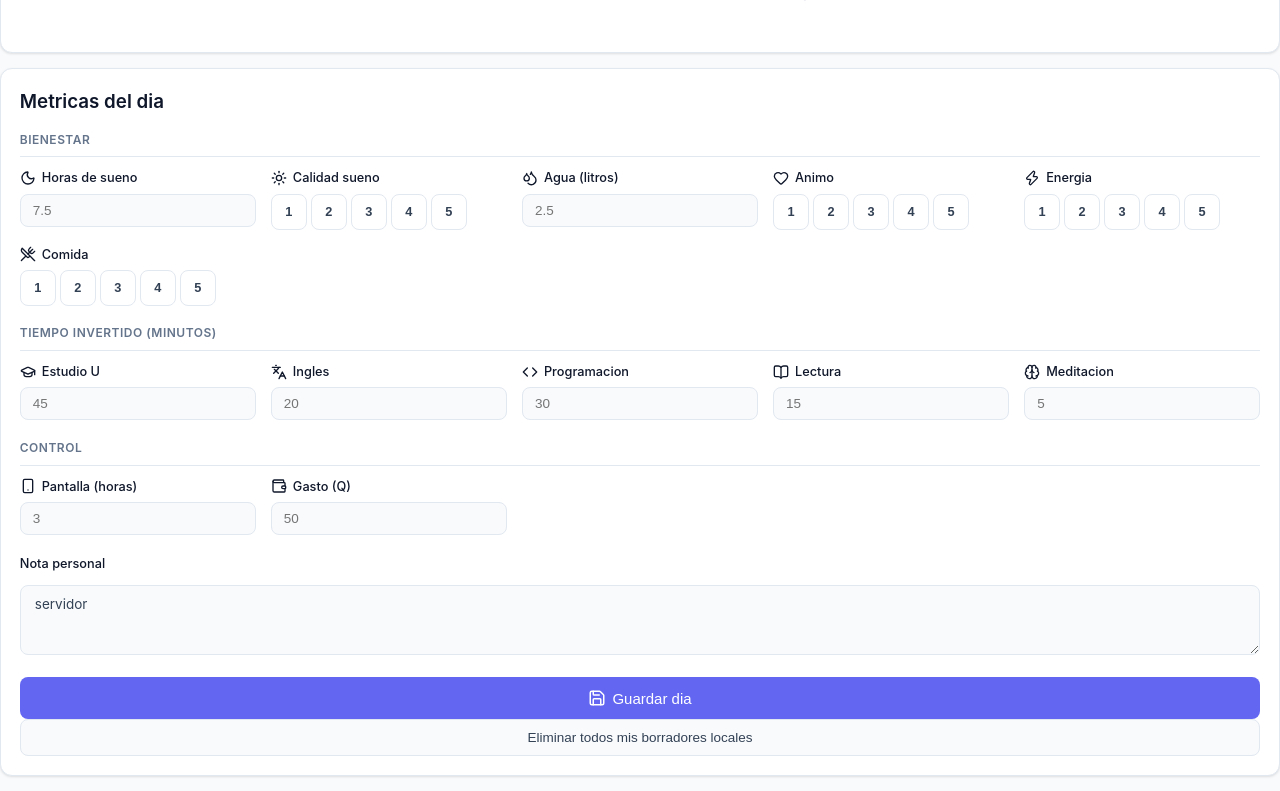
Scenario: Today draft save lifecycle › keeps delete-all separate and restores the current confirmed data
(page scrolled)
Replace the text in the text box with placeholder "Como fue tu dia?" with "local": (640, 620) x1=20 y1=585 x2=1260 y2=655
(page scrolled)
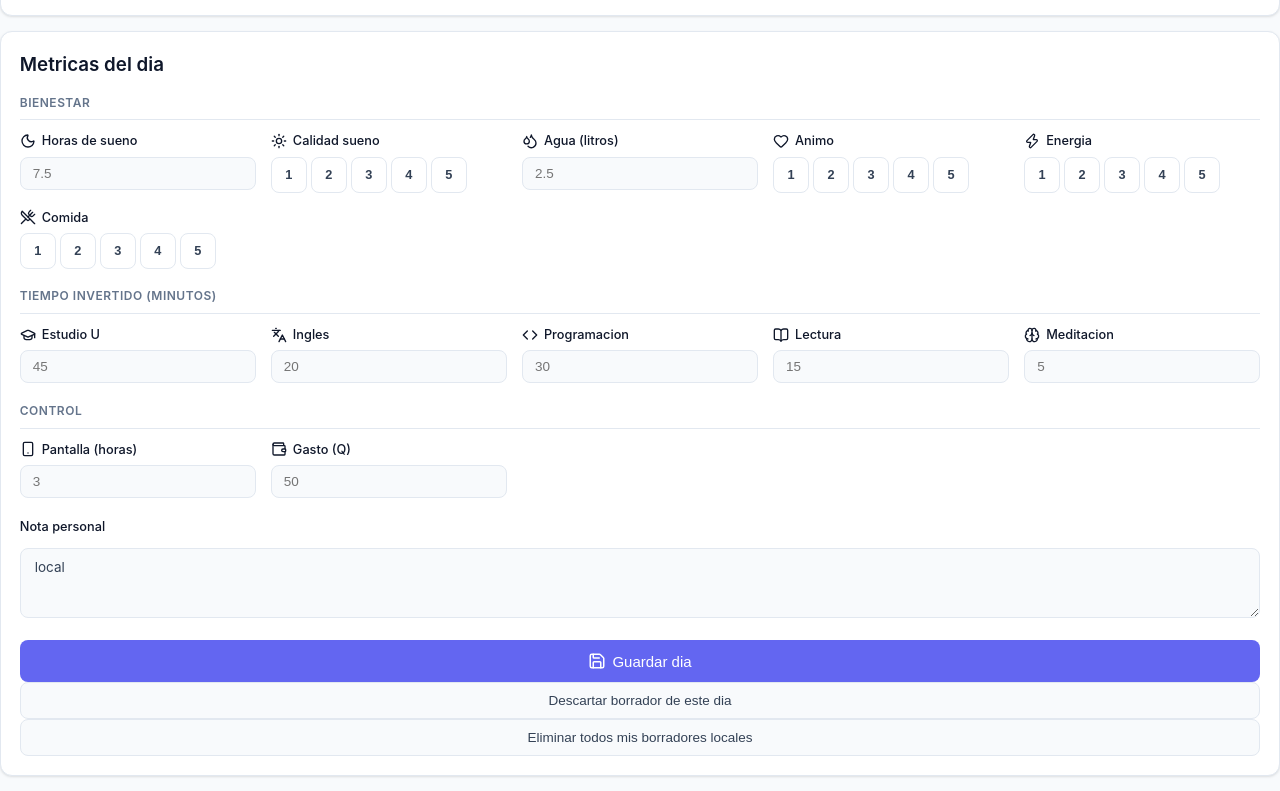
Click the button "Eliminar todos mis borradores locales": (640, 738) x1=20 y1=719 x2=1260 y2=756
(page scrolled)
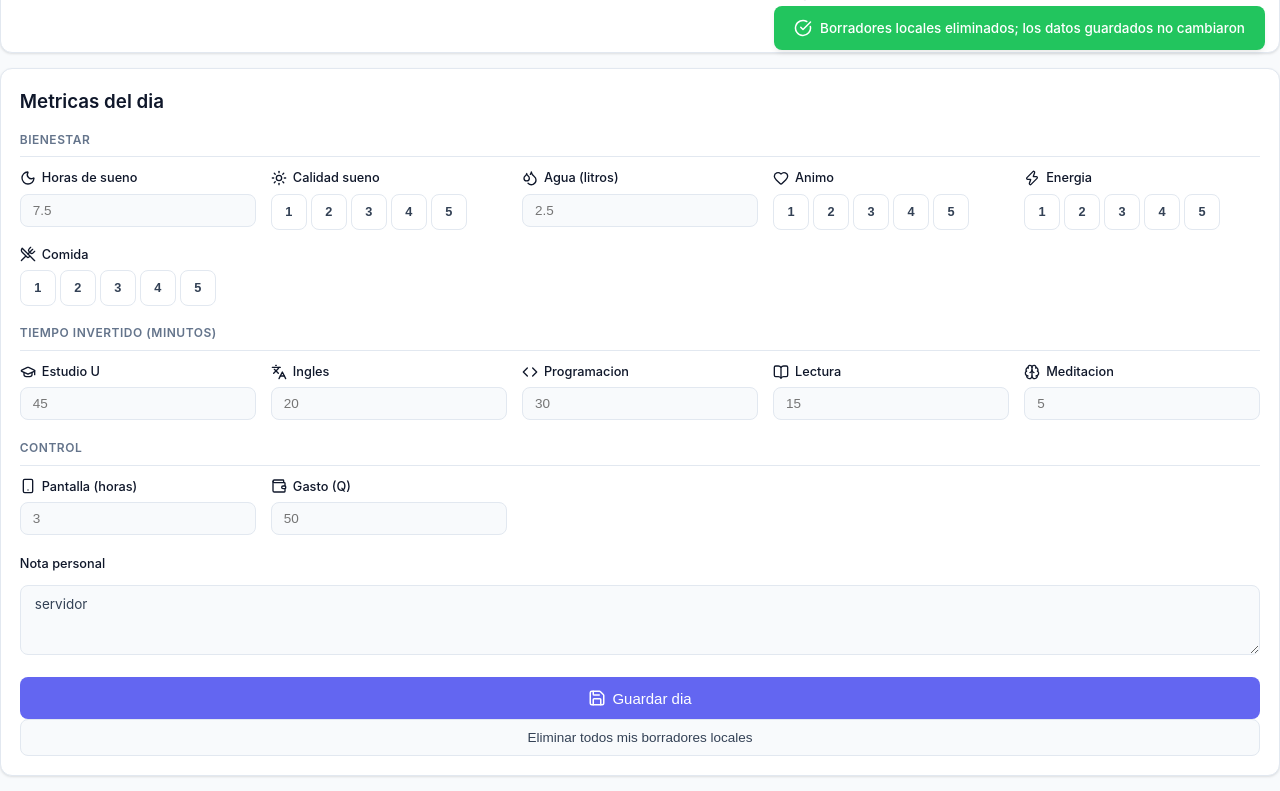
Expected: the text box with placeholder "Como fue tu dia?" holds "servidor", x1=20 y1=585 x2=1260 y2=655
